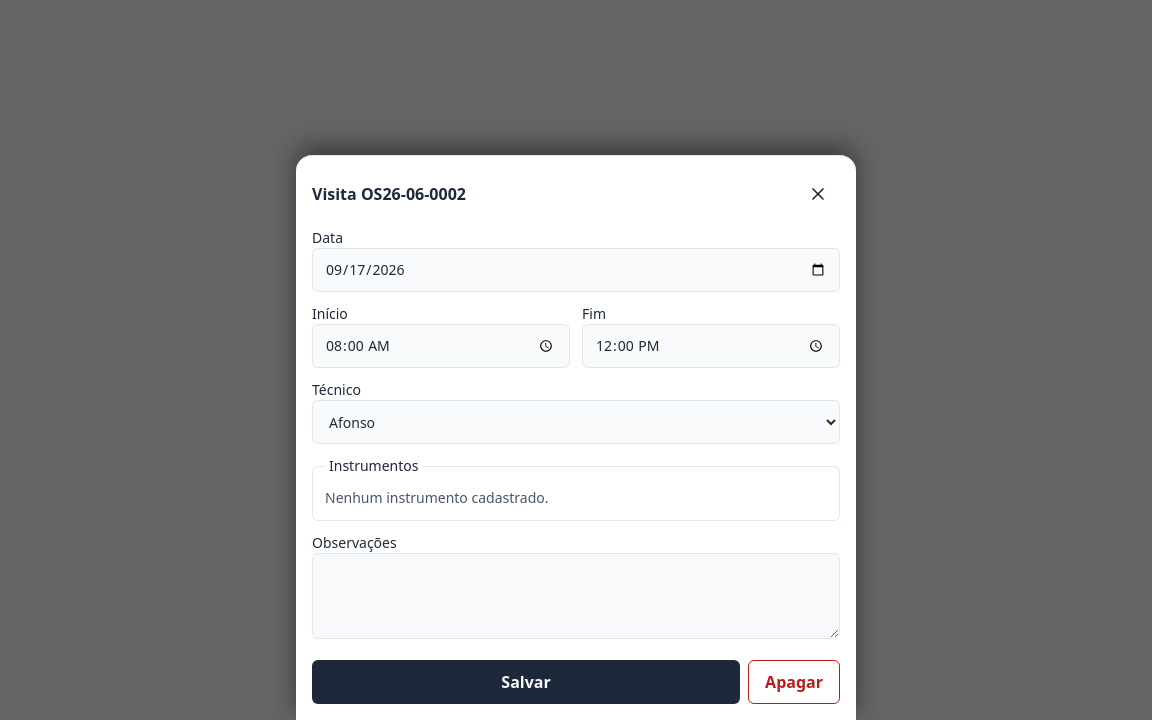
Test case: VisitaSheet › erro do servidor aparece na folha e não fecha
The width and height of the screenshot is (1152, 720).
Step 1. Click the button "Salvar" → (526, 682), box [312,660,740,704]
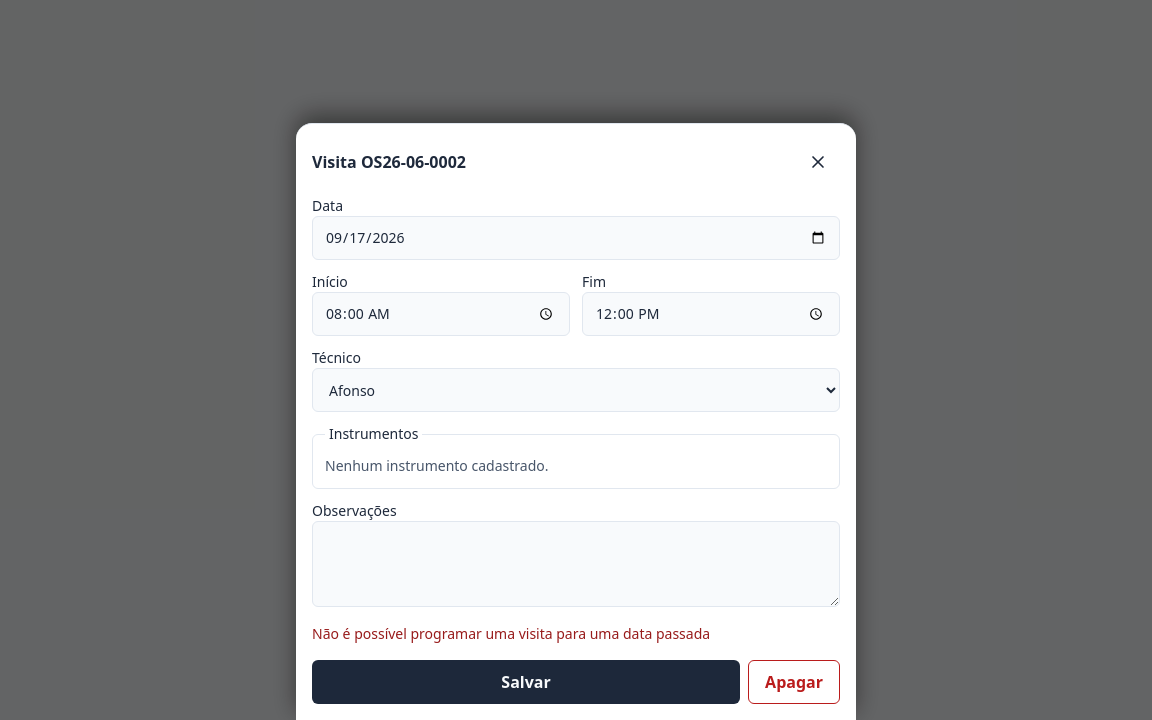
Result: the text "Não é possível programar uma visita para uma data passada" is shown at [312,624,710,643]
